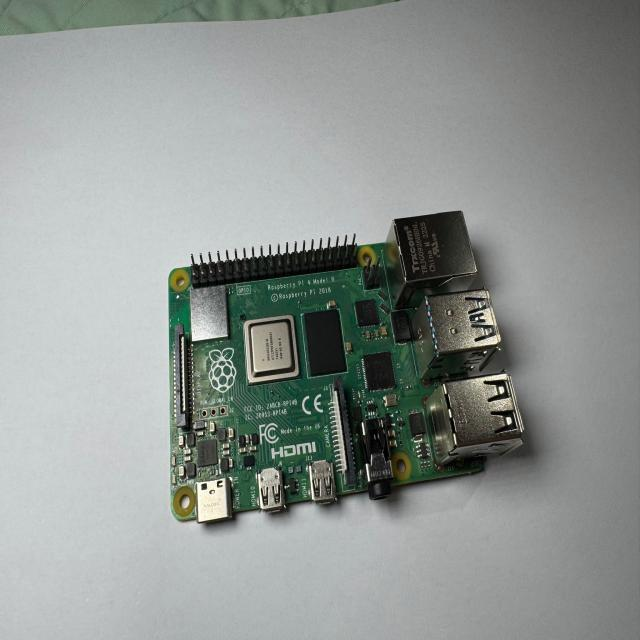CPU: (242, 311, 301, 386)
Ethernet: (380, 208, 479, 316)
GPIO: (187, 229, 359, 288)
RAM: (304, 307, 350, 377)
Raspberry: (166, 218, 522, 525)
micro-hdmi: (254, 462, 290, 514), (305, 454, 338, 508)
